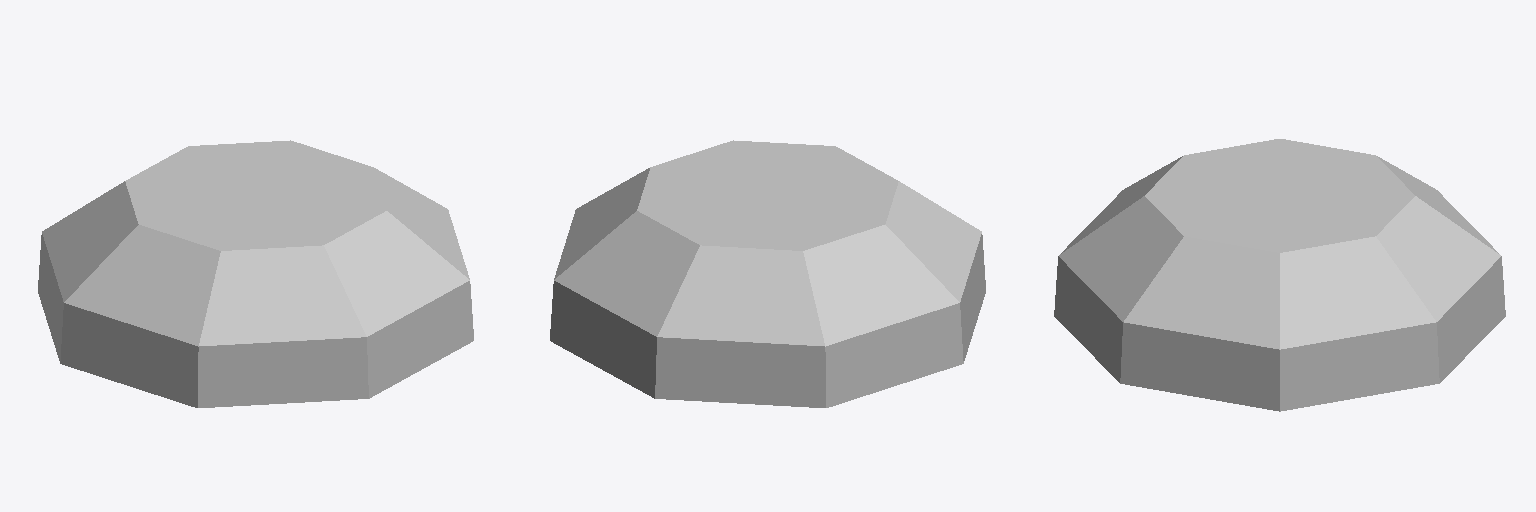
Rendered from Button Button.obj.
3 views of the same model, side by side, from view 1: azimuth 30°, elevation 25°; view 2: azimuth 150°, elevation 25°; view 3: azimuth 270°, elevation 25° (orthographic).
Parts seen in each view (by area): view 1: Button_Button; view 2: Button_Button; view 3: Button_Button.
Part boxes in pixels (x1,y1,x2,y2): Button_Button: (38,140,473,407); Button_Button: (550,140,985,407); Button_Button: (1054,139,1505,411).
Bounding box in the file's own units: 13.42 × 3.95 × 13.42.